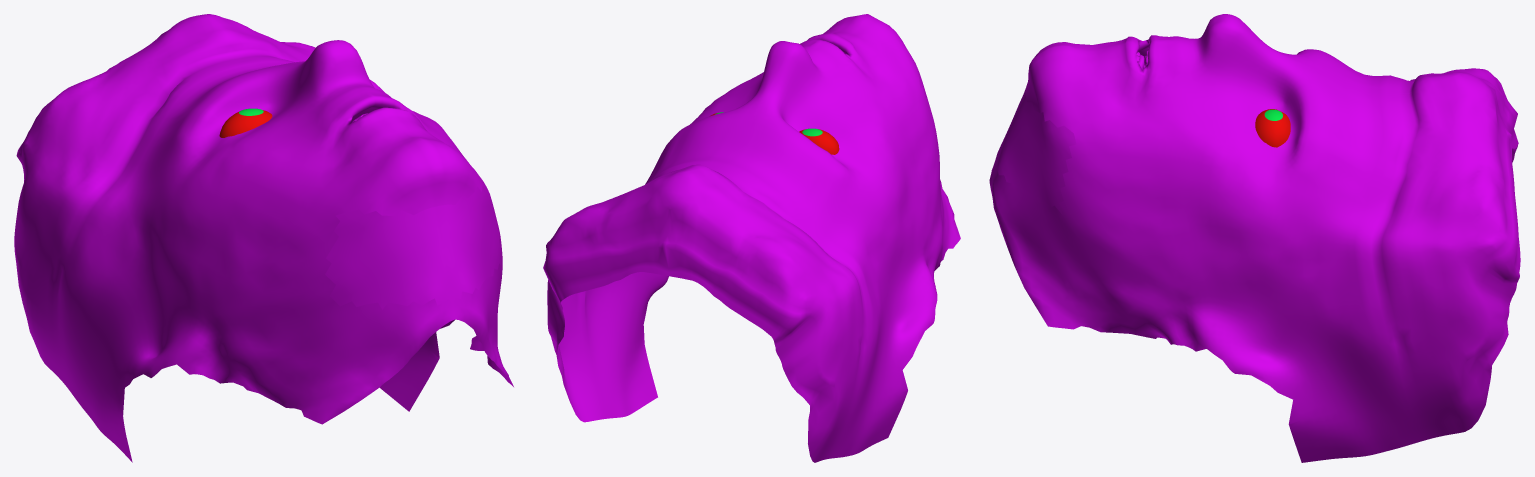
The model's file is mike low poly head test 1.fbx.
3 views of the same model, side by side, from view 1: azimuth 30°, elevation 25°; view 2: azimuth 150°, elevation 25°; view 3: azimuth 270°, elevation 25° (orthographic). The views are drawn at different scales.
Visible parts, largest first — view 1: MIKES REAL HEAD.002, MIKES REAL HEAD.000; view 2: MIKES REAL HEAD.002, MIKES REAL HEAD.000; view 3: MIKES REAL HEAD.002, MIKES REAL HEAD.000.
Boxes of the visible parts, x1,y1,x2,y2 form: MIKES REAL HEAD.002: [14, 14, 513, 462]; MIKES REAL HEAD.000: [219, 108, 272, 137]; MIKES REAL HEAD.002: [543, 14, 960, 462]; MIKES REAL HEAD.000: [710, 112, 839, 154]; MIKES REAL HEAD.002: [989, 14, 1520, 462]; MIKES REAL HEAD.000: [1255, 109, 1290, 147].
Size of the model in its own units: 0.3963 by 0.4672 by 0.5708.
